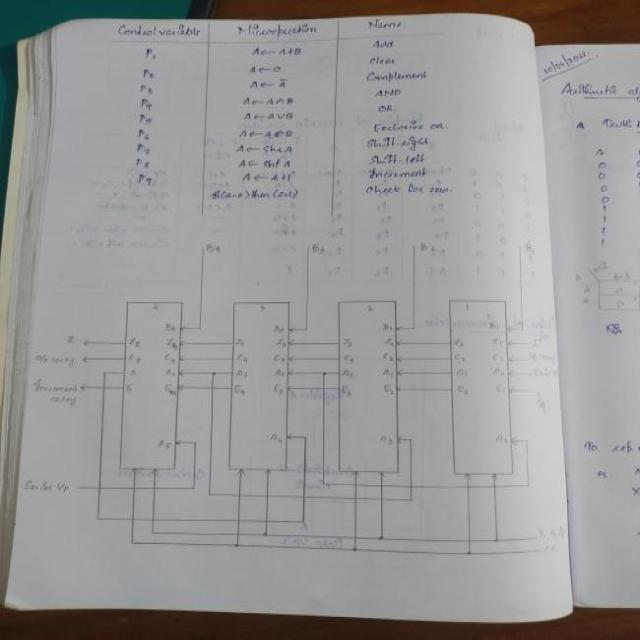Figure Detection - v3 Dataset Version2: (18, 229, 573, 576)
